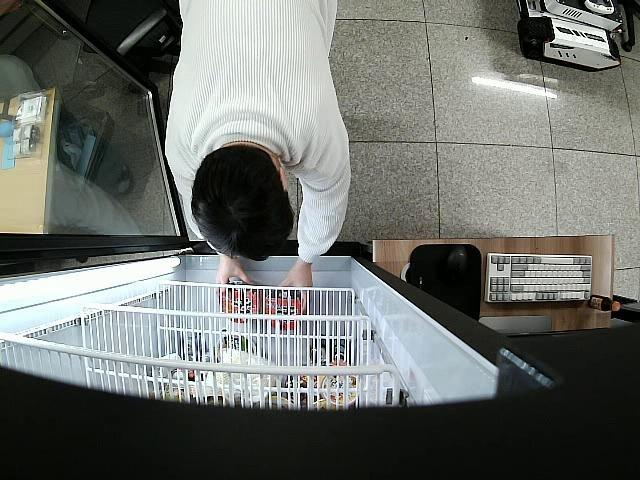01_ShinRamen_L: (220, 281, 262, 322), (264, 286, 303, 330)
